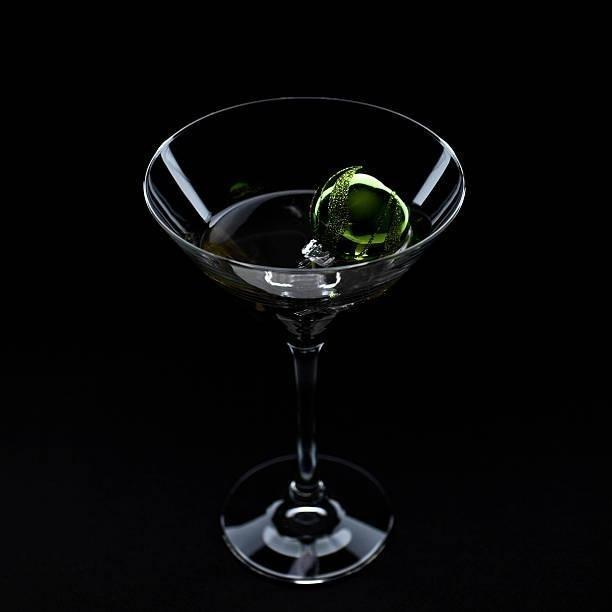glass-wine: (142, 92, 467, 587)
